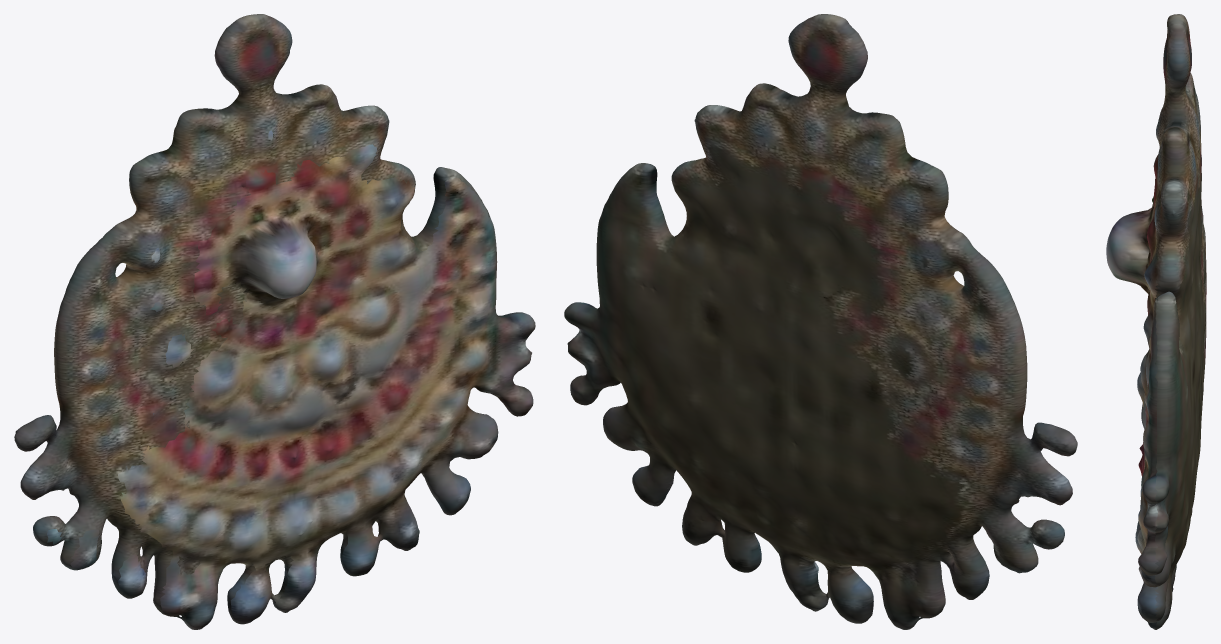
File: kfl-2230.glb
The picture shows the model from 3 angles, left to right: view 1: azimuth 30°, elevation 25°; view 2: azimuth 150°, elevation 25°; view 3: azimuth 270°, elevation 25°; orthographic projection. The views are drawn at different scales.
Parts seen in each view (by area): view 1: geometry_0; view 2: geometry_0; view 3: geometry_0.
Boxes of the visible parts, x1=… form: geometry_0: x1=14, y1=14, x2=535, y2=629; geometry_0: x1=564, y1=14, x2=1077, y2=629; geometry_0: x1=1106, y1=14, x2=1206, y2=629.
Size of the model in its own units: 0.8843 by 0.9903 by 0.1561.
Materials: 1 (1 with a texture image).
